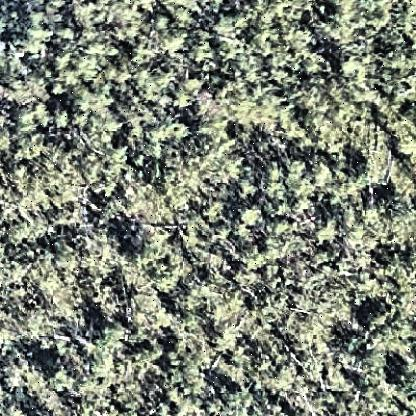tree-top: (326, 1, 403, 49), (76, 226, 124, 282), (373, 191, 416, 244), (8, 350, 49, 390), (54, 51, 90, 87), (149, 263, 183, 295), (354, 300, 382, 332), (395, 367, 416, 405), (394, 355, 416, 391), (202, 198, 226, 225), (342, 329, 366, 354), (240, 203, 262, 227), (50, 106, 72, 130)
